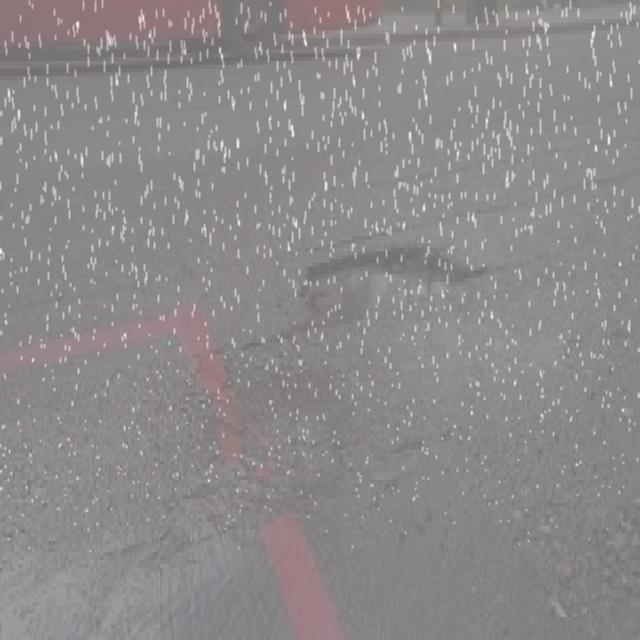Pothole: (284, 234, 495, 335)
